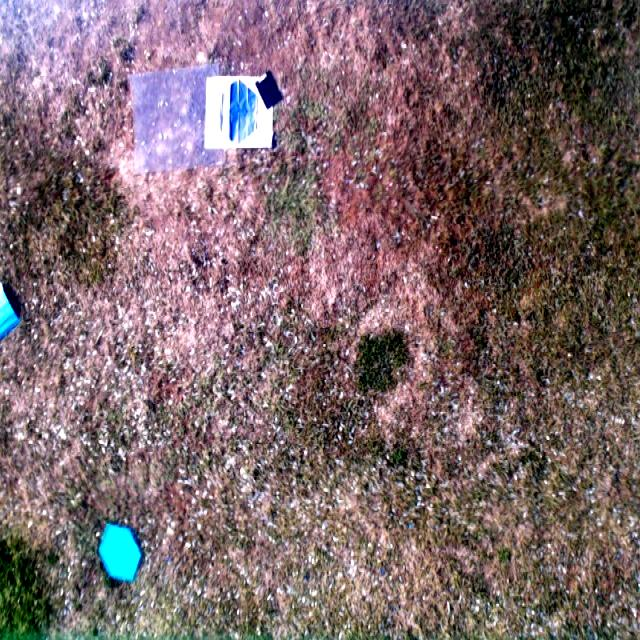blue_hexagon: (98, 521, 142, 581)
